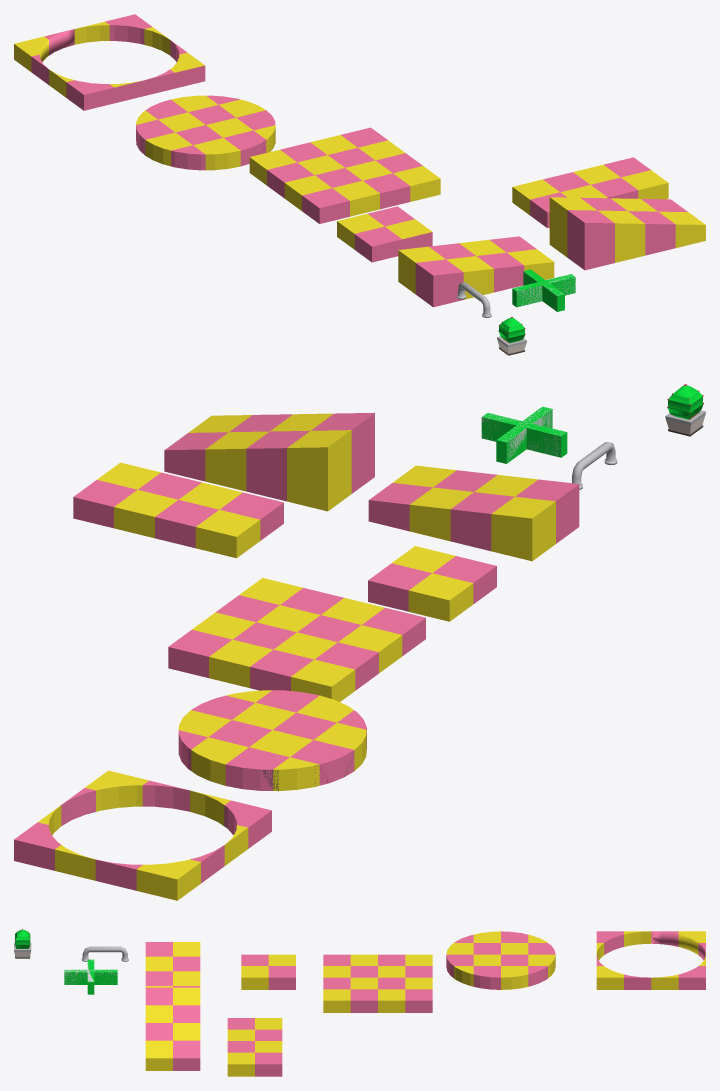
Rendered from level.fbx.
3 views of the same model, one above another, from view 1: azimuth 30°, elevation 25°; view 2: azimuth 150°, elevation 25°; view 3: azimuth 270°, elevation 25° (orthographic). The views are drawn at different scales.
Parts seen in each view (by area): view 1: Cube.006, Cube.004, Cube.003, Cube.002, Cube, Cube.010, Cube.009, Cube.011, Cube.014, Cube.008, Cube.005, Cube.007 (+3 smaller); view 2: Cube.006, Cube.004, Cube.003, Cube.002, Cube, Cube.008, Cube.007, Cube.012, Cube.013, Cube.010, Cube.005, Cube.009 (+3 smaller); view 3: Cube.006, Cube.004, Cube.002, Cube.003, Cube, Cube.007, Cube.009, Cube.008, Cube.010, Cube.014, Cube.013, Cube.012 (+4 smaller).
Part boxes in pixels (left/top/right/bottom): Cube.006: left=249, top=127, right=440, bottom=223; Cube.004: left=549, top=197, right=705, bottom=270; Cube.003: left=398, top=236, right=554, bottom=307; Cube.002: left=512, top=157, right=668, bottom=228; Cube: left=337, top=206, right=432, bottom=262; Cube.010: left=145, top=125, right=240, bottom=170; Cube.009: left=206, top=110, right=275, bottom=166; Cube.011: left=74, top=14, right=170, bottom=55; Cube.014: left=49, top=69, right=144, bottom=110; Cube.008: left=136, top=99, right=205, bottom=155; Cube.005: left=512, top=269, right=575, bottom=311; Cube.007: left=171, top=95, right=265, bottom=124; Cube.006: left=168, top=578, right=425, bottom=701; Cube.004: left=164, top=412, right=374, bottom=511; Cube.003: left=368, top=465, right=579, bottom=561; Cube.002: left=73, top=462, right=283, bottom=558; Cube: left=368, top=546, right=496, bottom=621; Cube.008: left=225, top=730, right=354, bottom=791; Cube.007: left=178, top=710, right=271, bottom=785; Cube.012: left=95, top=845, right=224, bottom=900; Cube.013: left=61, top=770, right=189, bottom=825; Cube.010: left=273, top=695, right=366, bottom=770; Cube.005: left=481, top=406, right=567, bottom=463; Cube.009: left=191, top=690, right=319, bottom=729; Cube.006: left=323, top=954, right=432, bottom=1012; Cube.004: left=145, top=987, right=200, bottom=1070; Cube.002: left=227, top=1018, right=282, bottom=1076; Cube.003: left=145, top=942, right=200, bottom=987; Cube: left=241, top=954, right=295, bottom=989; Cube.007: left=501, top=954, right=555, bottom=989; Cube.009: left=446, top=954, right=500, bottom=989; Cube.008: left=501, top=931, right=555, bottom=954; Cube.010: left=446, top=931, right=500, bottom=954; Cube.014: left=596, top=931, right=651, bottom=960; Cube.013: left=596, top=955, right=651, bottom=989; Cube.012: left=651, top=931, right=705, bottom=960.
Size of the model in its own units: 23 by 3.01 by 50.63.
Materials: 6 (6 with a texture image).
